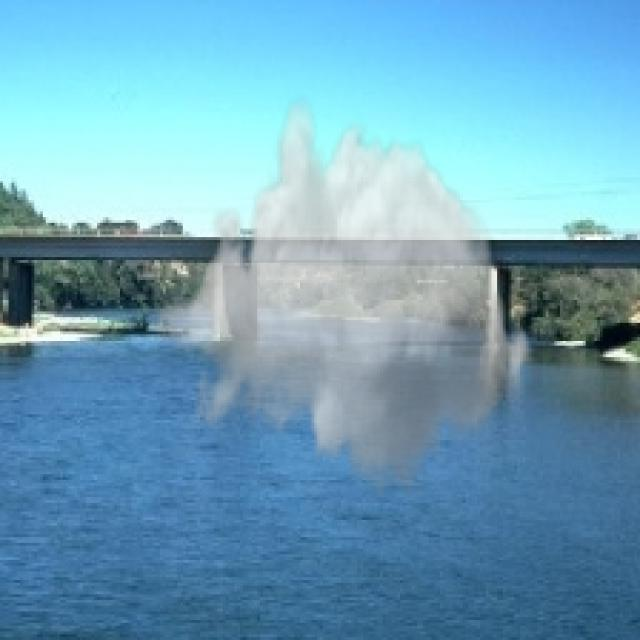Smoke: (155, 94, 534, 503)
